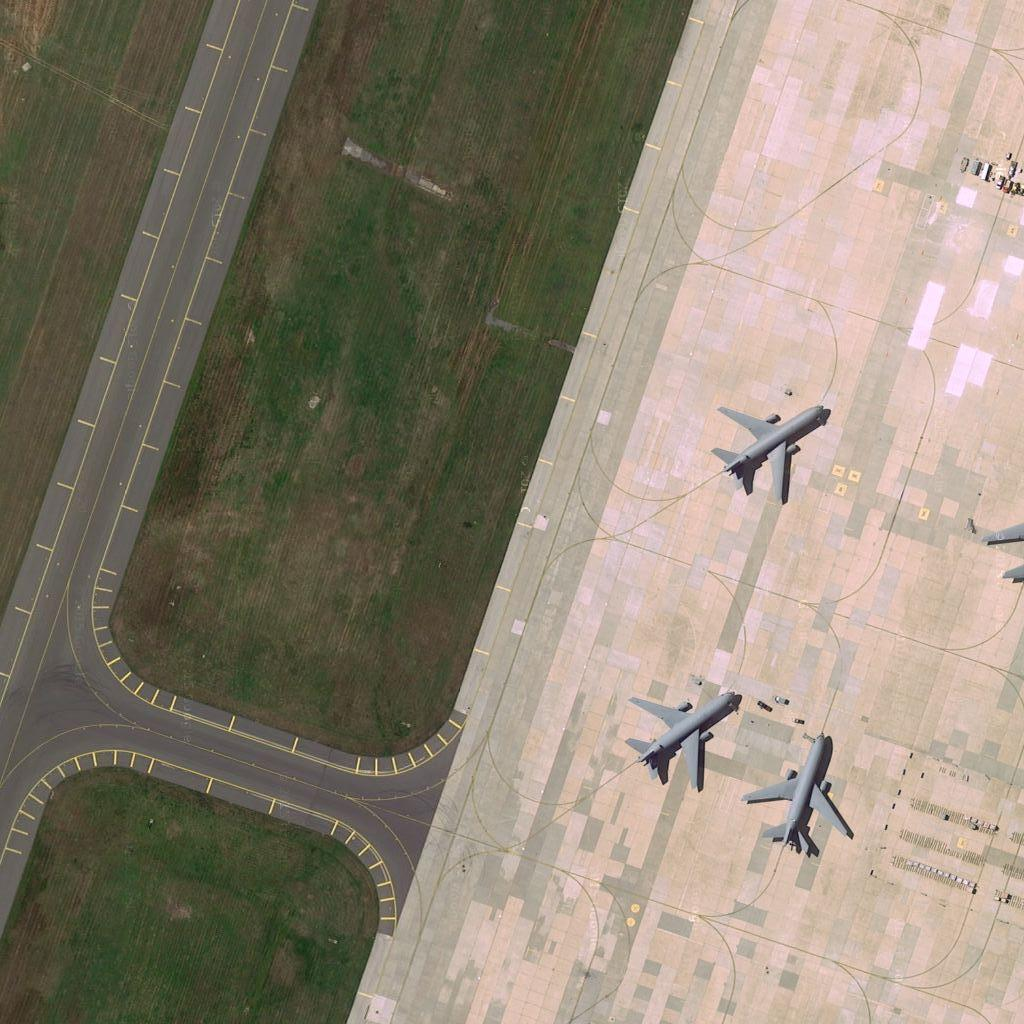KC-10: (741, 726, 861, 862), (709, 394, 831, 514), (621, 680, 749, 794)
